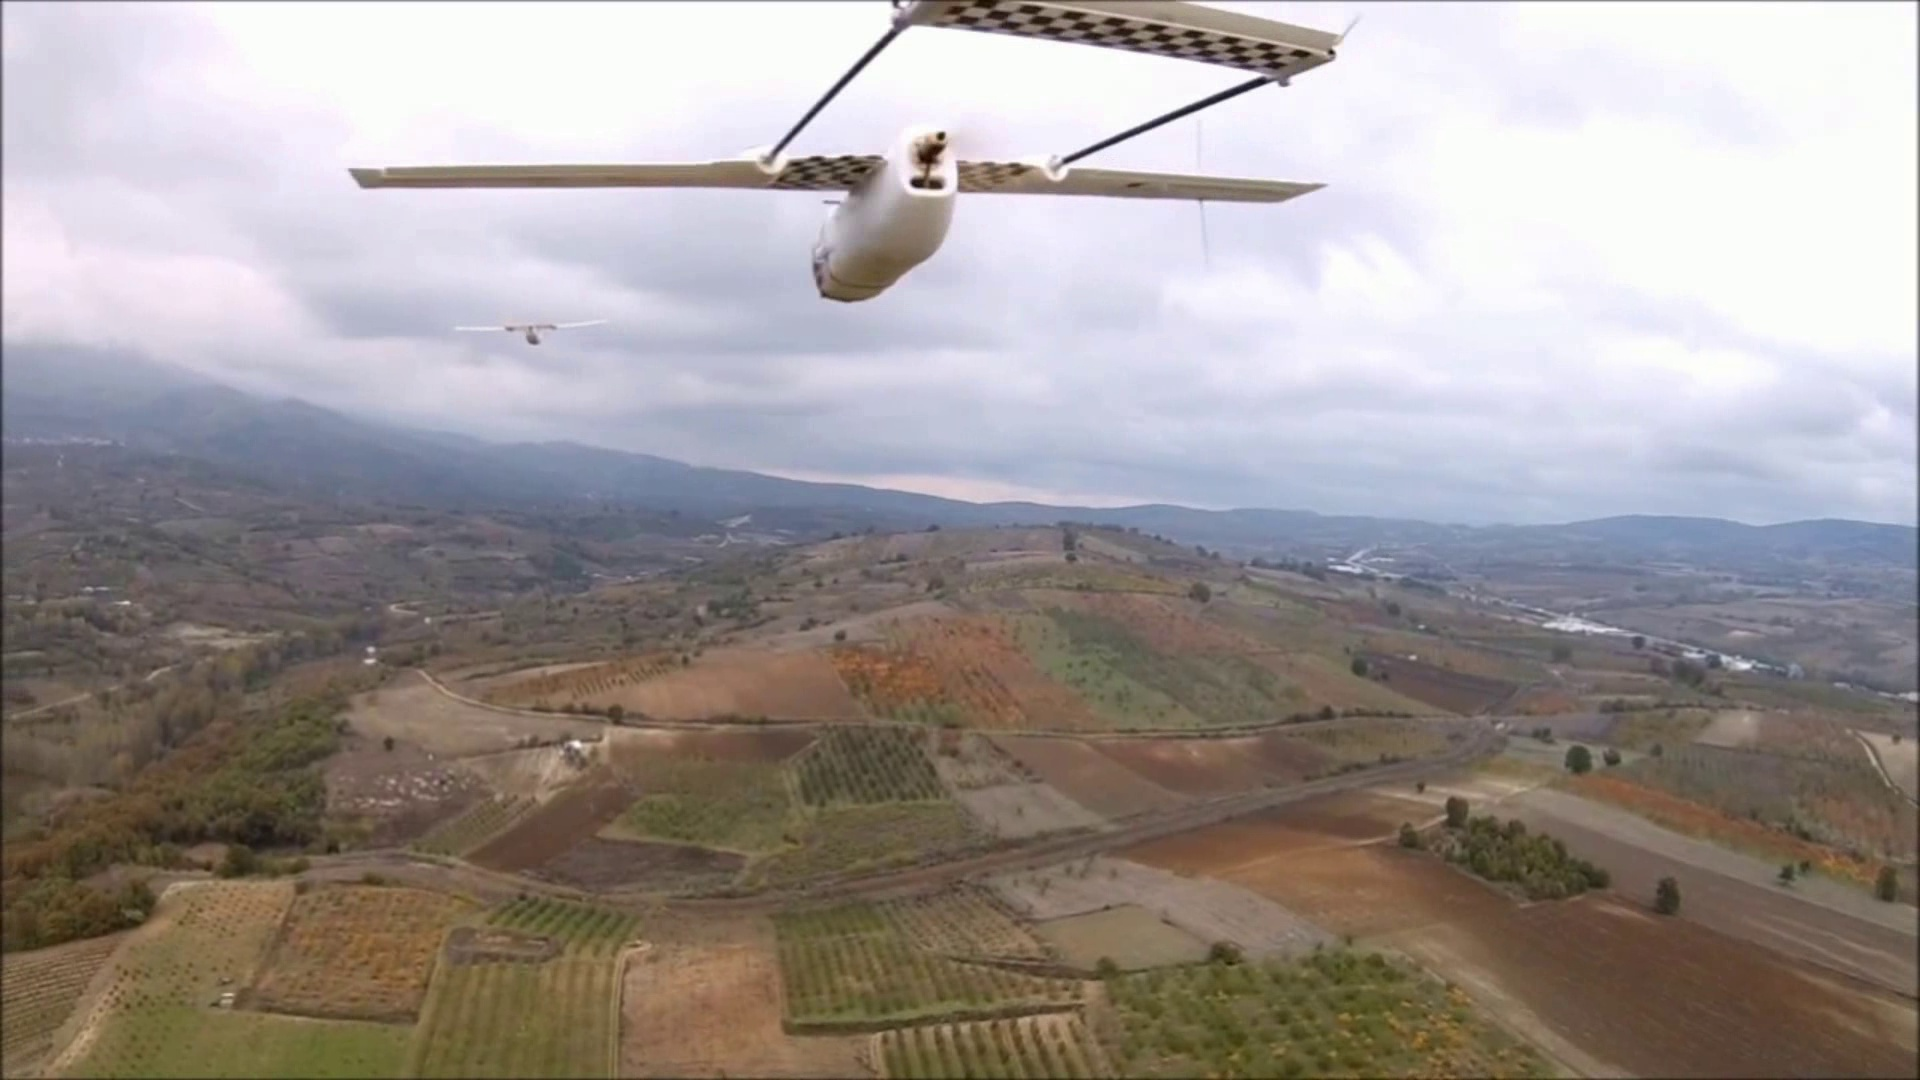airplane: (343, 3, 1356, 305)
